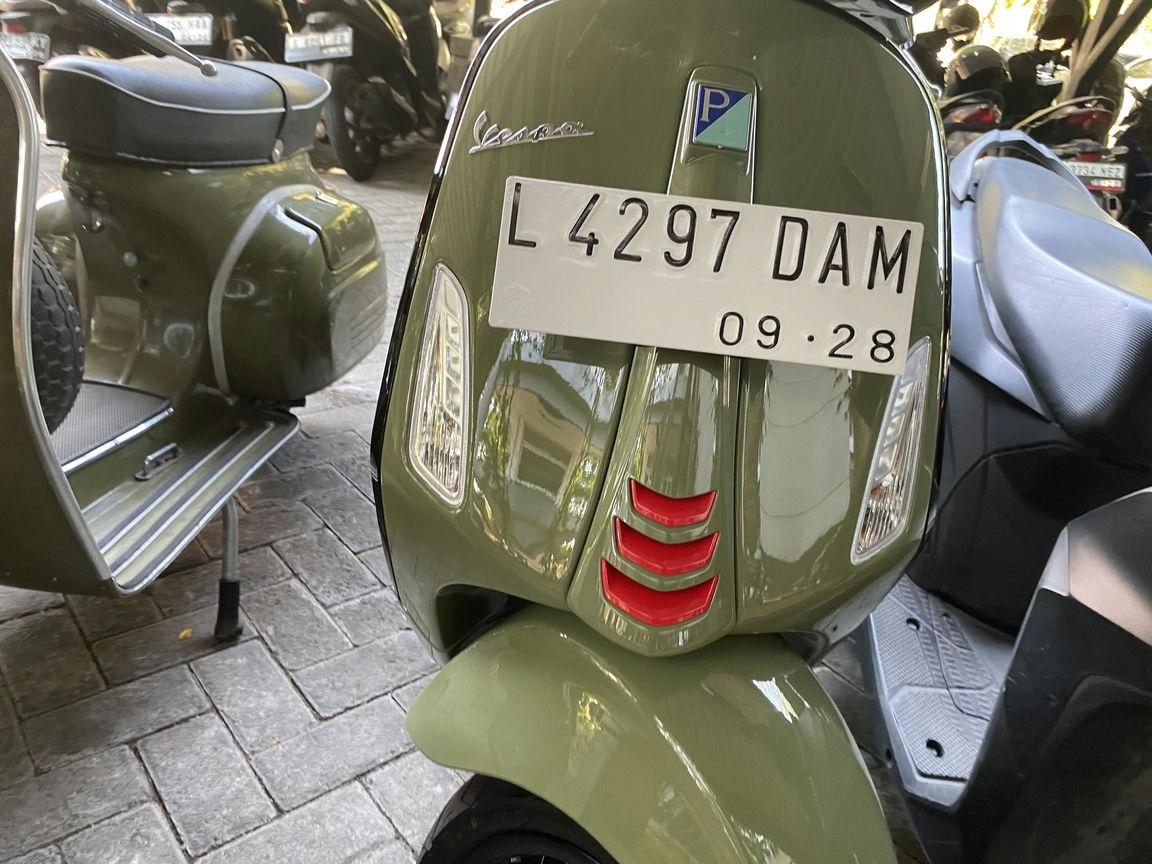plat: (488, 176, 922, 376)
